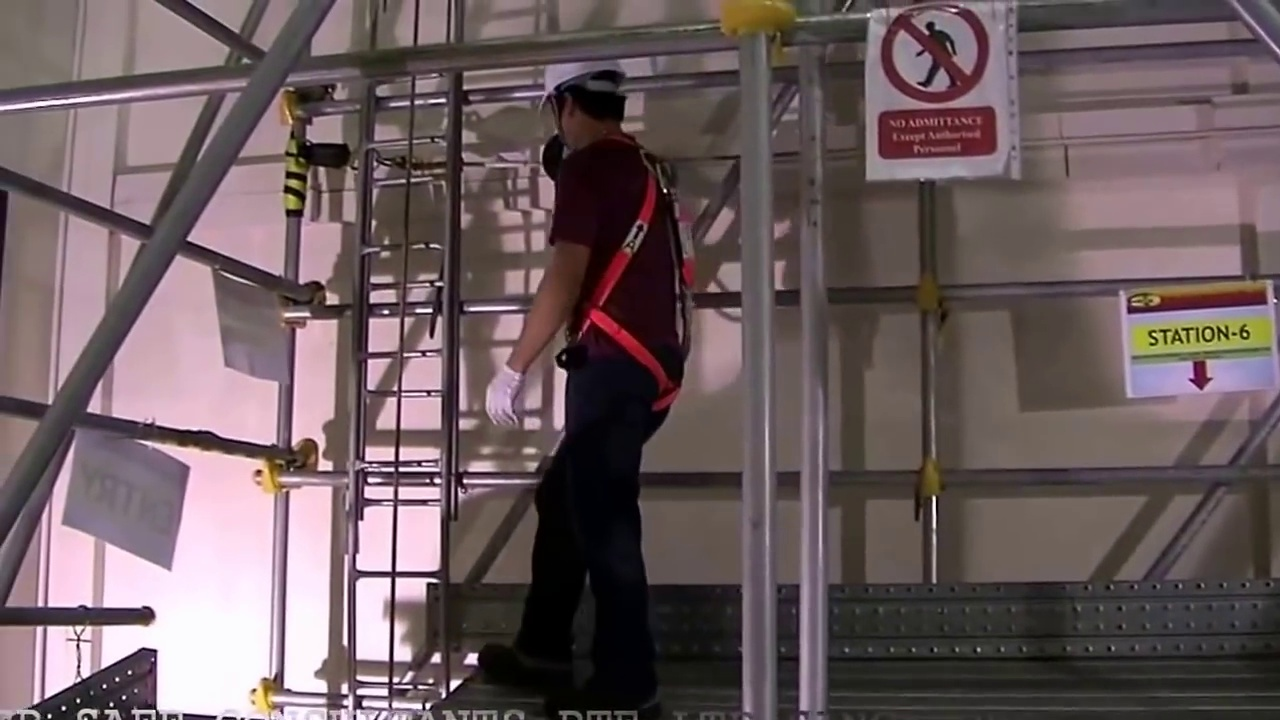harness: (598, 149, 692, 413)
helmet: (541, 58, 627, 82)
